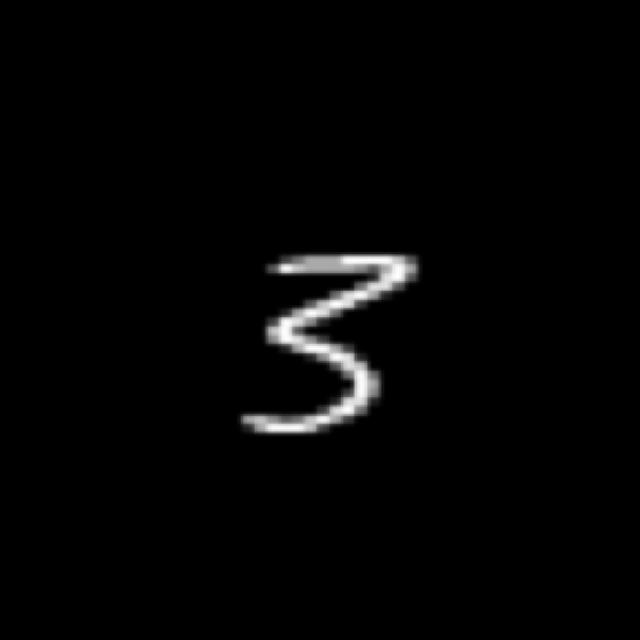three -3-: (213, 242, 427, 449)
